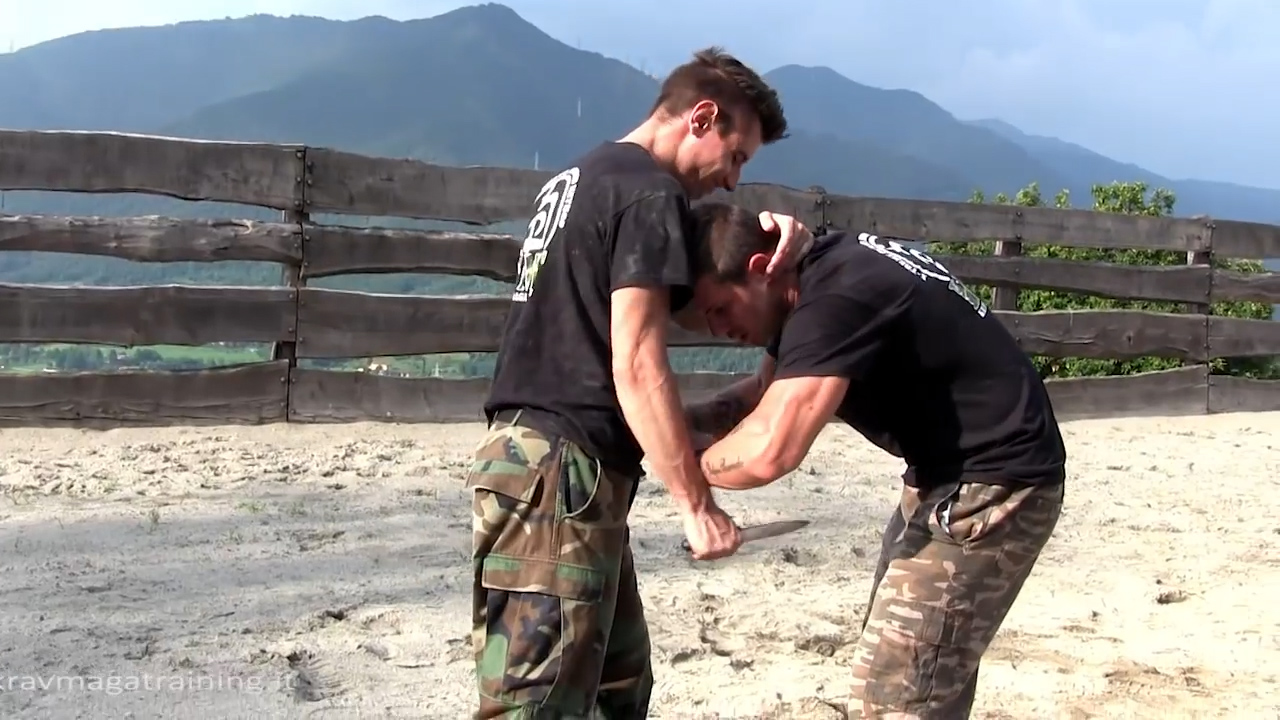knife: (677, 506, 820, 566)
